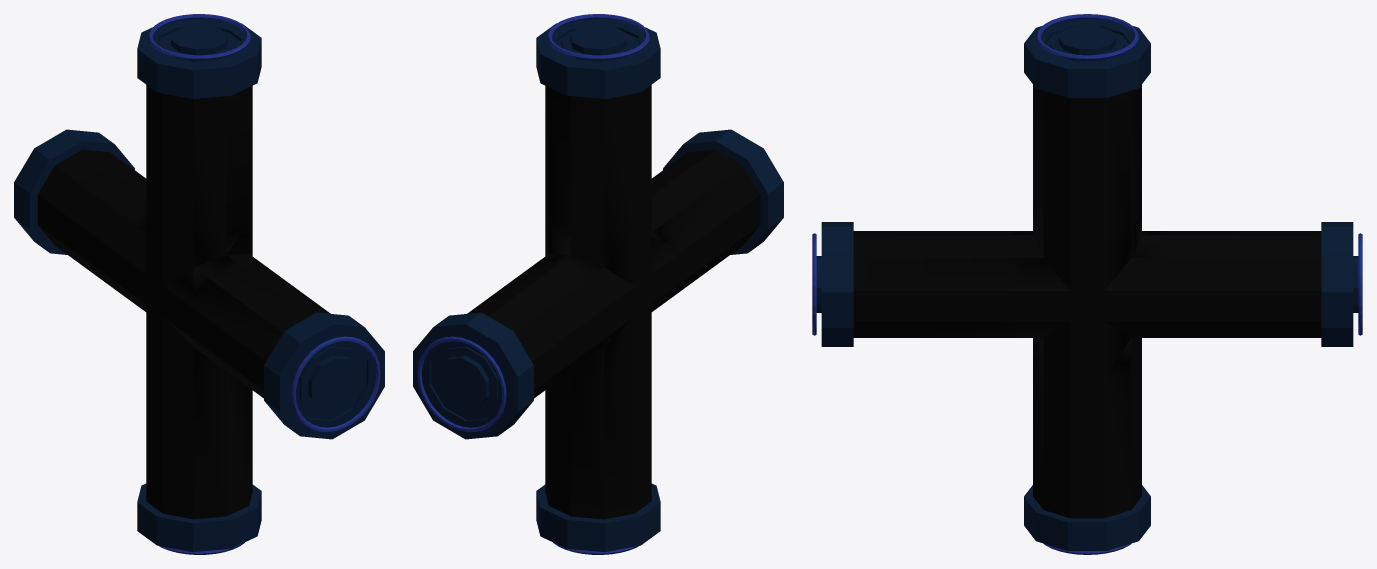
The model's file is st3_pipe_+ (1).fbx.
The picture shows the model from 3 angles, left to right: view 1: azimuth 30°, elevation 25°; view 2: azimuth 150°, elevation 25°; view 3: azimuth 270°, elevation 25°; orthographic projection.
Visible parts, largest first — view 1: curve__, curve___etc2, curve___etc1, curve___ring1, curve___ring2; view 2: curve__, curve___etc2, curve___etc1, curve___ring1, curve___ring2; view 3: curve__, curve___etc1, curve___etc2, curve___ring1, curve___ring2.
Boxes of the visible parts, left/top/right/bottom form: curve__: left=37, top=85, right=330, bottom=519; curve___etc2: left=14, top=129, right=384, bottom=439; curve___etc1: left=137, top=19, right=261, bottom=552; curve___ring1: left=148, top=14, right=250, bottom=554; curve___ring2: left=291, top=336, right=380, bottom=432; curve__: left=467, top=85, right=760, bottom=519; curve___etc2: left=413, top=129, right=783, bottom=439; curve___etc1: left=536, top=19, right=660, bottom=552; curve___ring1: left=547, top=14, right=649, bottom=554; curve___ring2: left=417, top=336, right=506, bottom=432; curve__: left=853, top=85, right=1321, bottom=518; curve___etc1: left=1024, top=19, right=1150, bottom=550; curve___etc2: left=816, top=222, right=1358, bottom=346; curve___ring1: left=1036, top=14, right=1138, bottom=554; curve___ring2: left=812, top=233, right=1362, bottom=335.
Size of the model in its own units: 100 by 455 by 455.
